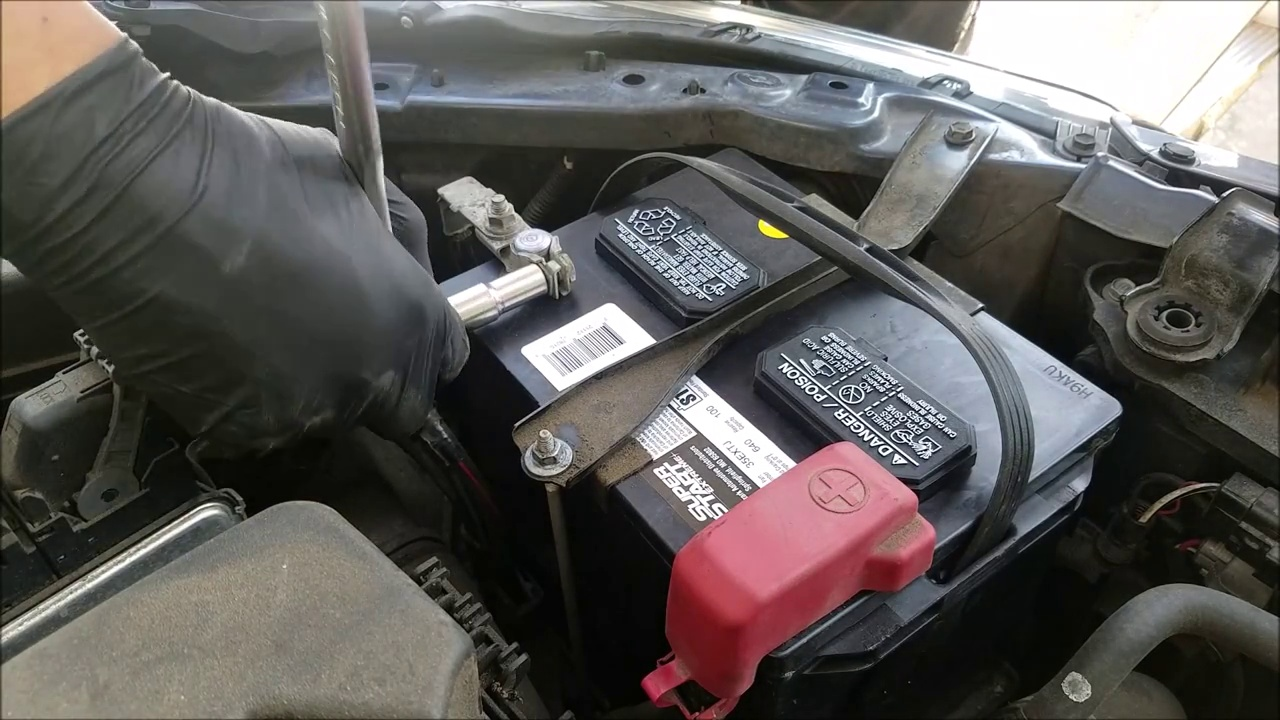battery: (381, 147, 1127, 657)
neg_connected: (423, 143, 575, 284)
pos_connected: (645, 418, 932, 683)
